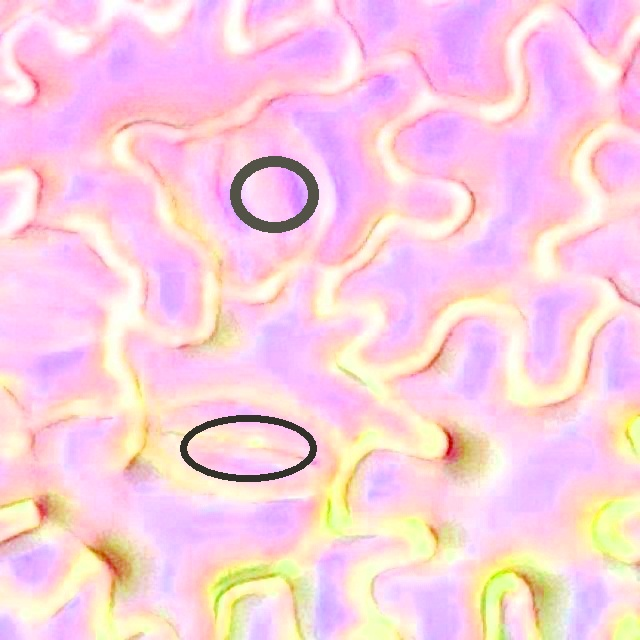close: (179, 414, 317, 483), (229, 155, 319, 232)
